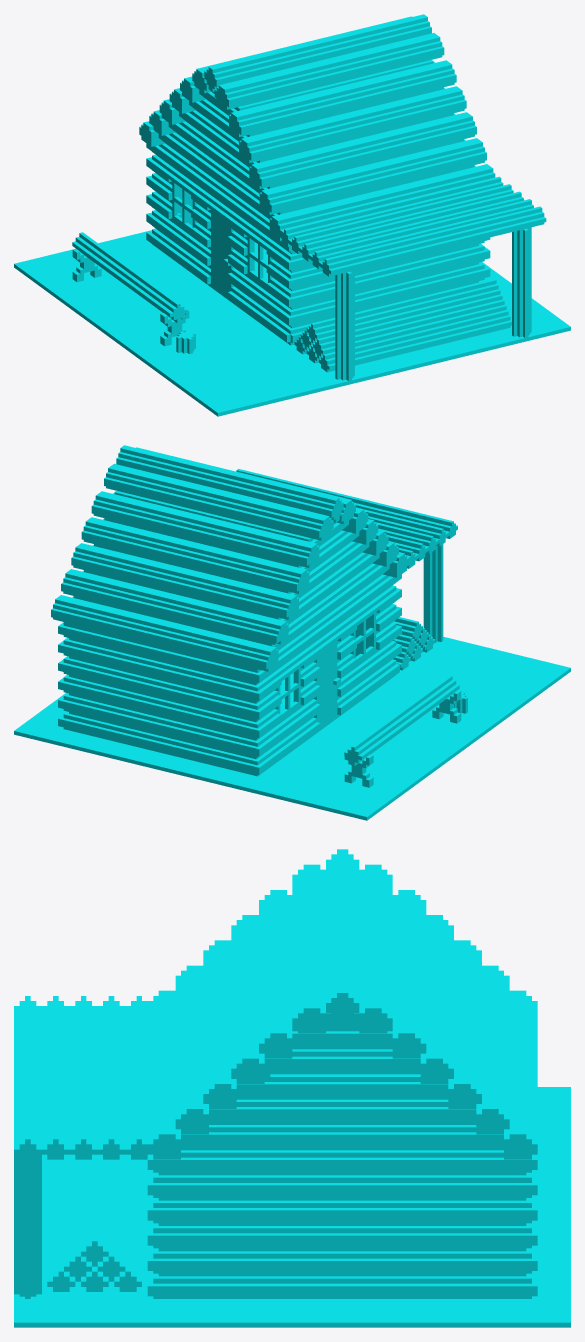
The model's file is WoodcutterHousePlaceholderBlueprint.fbx.
The picture shows the model from 3 angles, top to bottom: view 1: azimuth 30°, elevation 25°; view 2: azimuth 150°, elevation 25°; view 3: azimuth 270°, elevation 25°; orthographic projection. The views are drawn at different scales.
Visible parts, largest first — view 1: 100_100_100_voxel_Holzfallerhutte; view 2: 100_100_100_voxel_Holzfallerhutte; view 3: 100_100_100_voxel_Holzfallerhutte.
Boxes of the visible parts, <box> form: 100_100_100_voxel_Holzfallerhutte: <box>14,14,570,416</box>; 100_100_100_voxel_Holzfallerhutte: <box>14,445,570,820</box>; 100_100_100_voxel_Holzfallerhutte: <box>14,849,570,1327</box>.
Bounding box in the file's own units: 1000 × 630 × 1000.
